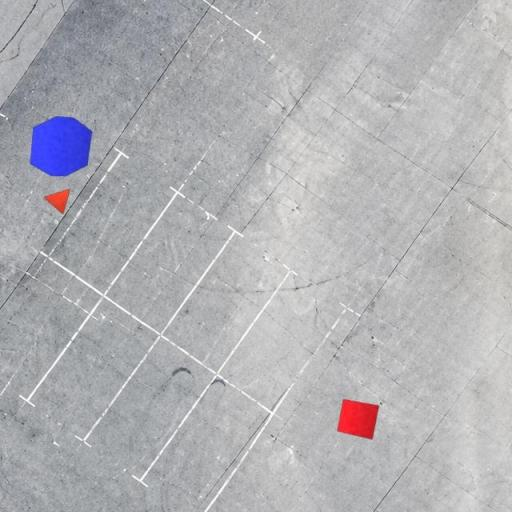RED_SQUARE: (337, 398, 380, 440)
